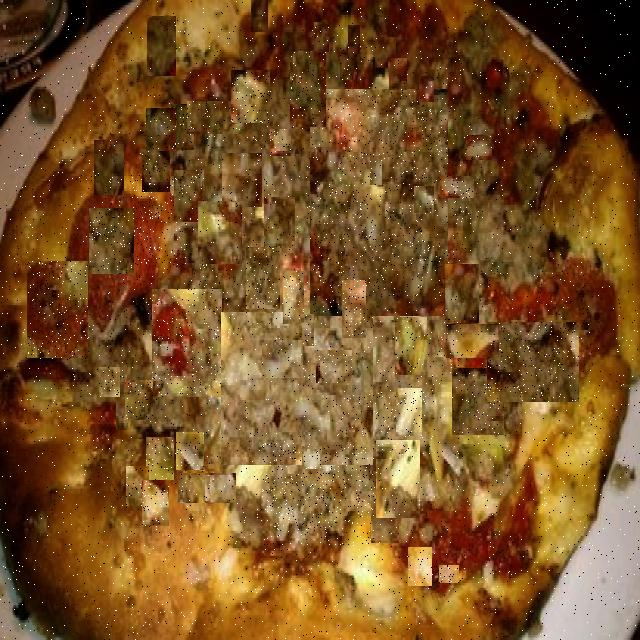Beef: (310, 89, 448, 316), (221, 312, 373, 465), (368, 296, 459, 461), (262, 443, 375, 545), (487, 322, 579, 402), (129, 175, 187, 266), (452, 368, 504, 435), (376, 440, 420, 518), (89, 208, 134, 274), (290, 51, 326, 127), (222, 153, 262, 207), (246, 247, 280, 309), (445, 264, 479, 323), (188, 258, 233, 301), (187, 101, 244, 134), (147, 16, 176, 76), (178, 473, 236, 503), (94, 140, 124, 195), (264, 198, 295, 250), (174, 170, 204, 222), (371, 495, 399, 543), (146, 108, 176, 151), (142, 149, 170, 192), (146, 437, 174, 480), (125, 380, 153, 420), (171, 104, 194, 150), (126, 466, 149, 506), (376, 37, 398, 68), (99, 367, 120, 397), (389, 58, 407, 90), (251, 0, 268, 32), (116, 399, 130, 432), (314, 22, 329, 52), (348, 25, 360, 54), (340, 54, 353, 80), (334, 28, 346, 54)
Onions: (85, 326, 135, 407), (198, 201, 242, 264), (374, 404, 406, 490), (401, 106, 443, 164), (231, 70, 270, 123), (332, 395, 377, 437), (395, 317, 427, 375), (446, 324, 499, 358), (262, 340, 303, 378), (342, 280, 366, 338), (396, 388, 422, 436), (142, 480, 169, 526), (316, 350, 352, 383), (284, 271, 306, 324), (261, 403, 289, 442), (452, 207, 476, 252), (176, 432, 204, 470), (408, 548, 432, 588), (440, 176, 474, 198), (466, 135, 492, 160), (270, 129, 291, 156), (414, 186, 434, 213), (302, 446, 322, 469), (420, 76, 436, 102), (302, 314, 314, 346), (439, 565, 459, 583), (370, 156, 382, 185), (222, 480, 231, 499), (205, 476, 210, 502)
Pepperoni: (488, 195, 572, 314), (152, 289, 222, 397), (27, 262, 88, 360)
Pizza: (0, 0, 640, 640)
